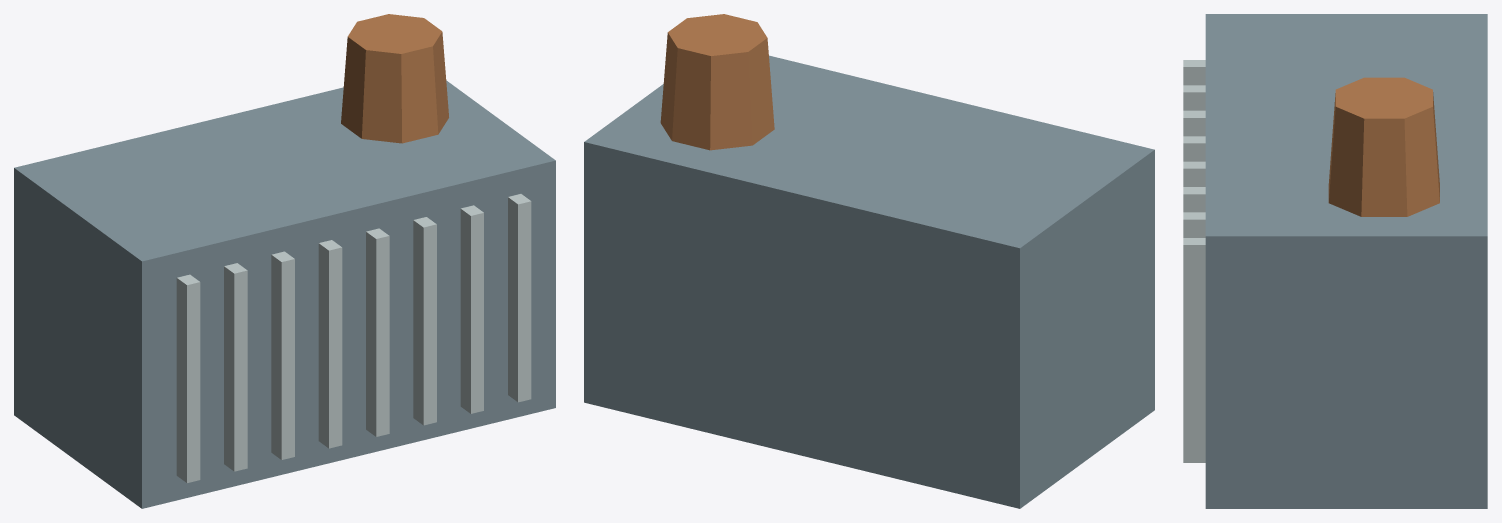
File: Hab_Heat_Exchanger.glb
3 views of the same model, side by side, from view 1: azimuth 30°, elevation 25°; view 2: azimuth 150°, elevation 25°; view 3: azimuth 270°, elevation 25° (orthographic). The views are drawn at different scales.
Visible parts, largest first — view 1: Hab_Heat_Exchanger; view 2: Hab_Heat_Exchanger; view 3: Hab_Heat_Exchanger.
Boxes of the visible parts, x1,y1,x2,y2 form: Hab_Heat_Exchanger: (14, 14, 555, 508); Hab_Heat_Exchanger: (584, 14, 1154, 508); Hab_Heat_Exchanger: (1183, 14, 1487, 508).
Size of the model in its own units: 1.4 by 1.08 by 0.81.
